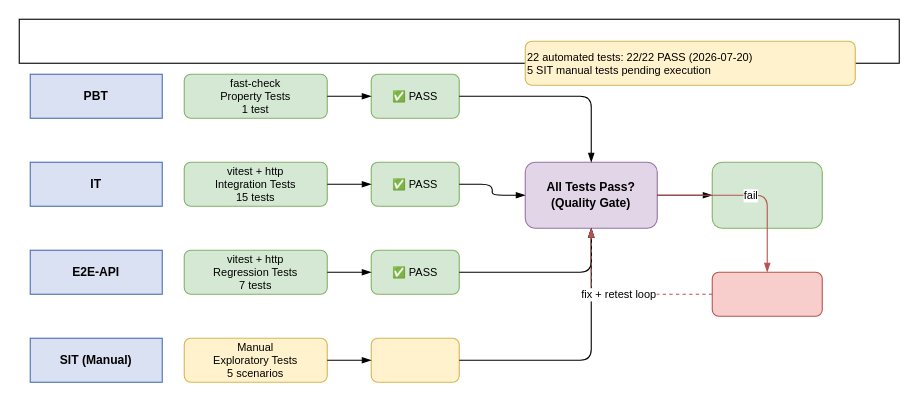
This 919x402 diagram has some shape labels left out. The shapes that lost their labels are listed below. From the top down, each one's box as (x1, y1, x2, y2) in pixels, then its label:
(18, 18, 899, 63): Test Execution Flow — SA4E-48
(711, 161, 822, 228): ✅ Release Ready
(711, 271, 822, 316): ❌ Fix Defects + Retest
(370, 337, 459, 382): ⏳ PENDING
